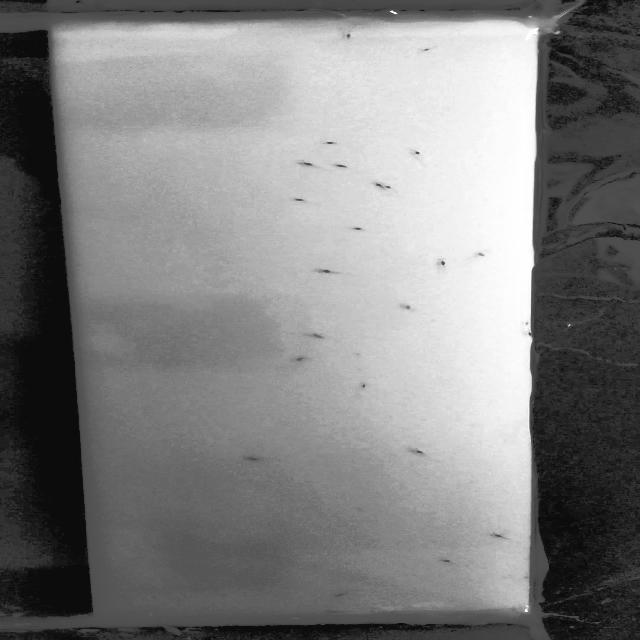shrimp: (328, 158, 353, 173), (407, 443, 432, 458), (292, 350, 314, 364), (323, 608, 346, 621), (356, 379, 380, 391), (469, 248, 492, 260), (434, 555, 455, 568), (245, 453, 269, 464), (320, 137, 343, 148), (338, 29, 357, 42), (297, 158, 321, 168), (383, 182, 400, 194), (312, 330, 328, 342), (491, 533, 514, 541), (417, 45, 435, 55), (292, 194, 307, 206), (437, 258, 452, 270), (411, 146, 427, 157), (401, 301, 418, 311), (332, 590, 350, 599), (319, 266, 333, 276), (373, 178, 382, 191), (348, 223, 361, 232)
